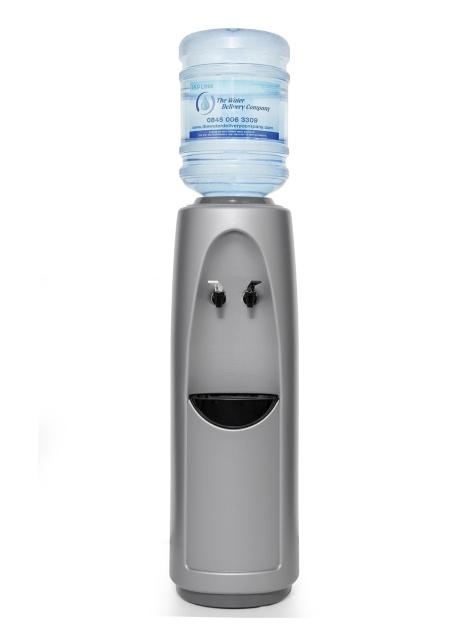Dispenser: (170, 27, 299, 609)
